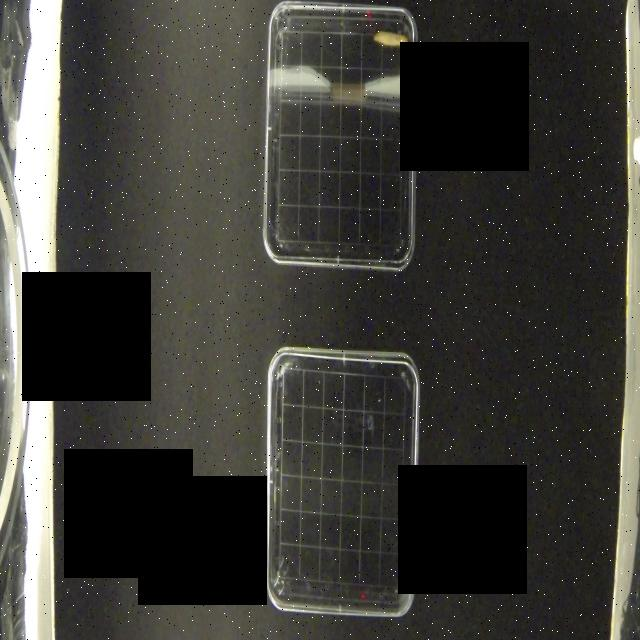larva: (373, 29, 410, 50), (399, 507, 414, 554)
